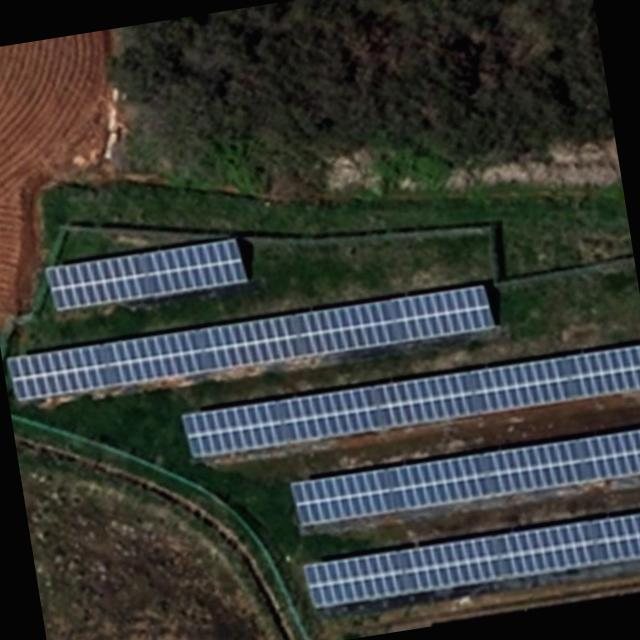solar: (4, 278, 498, 409), (180, 336, 640, 465), (286, 420, 640, 530), (299, 503, 640, 614), (42, 231, 250, 314)
